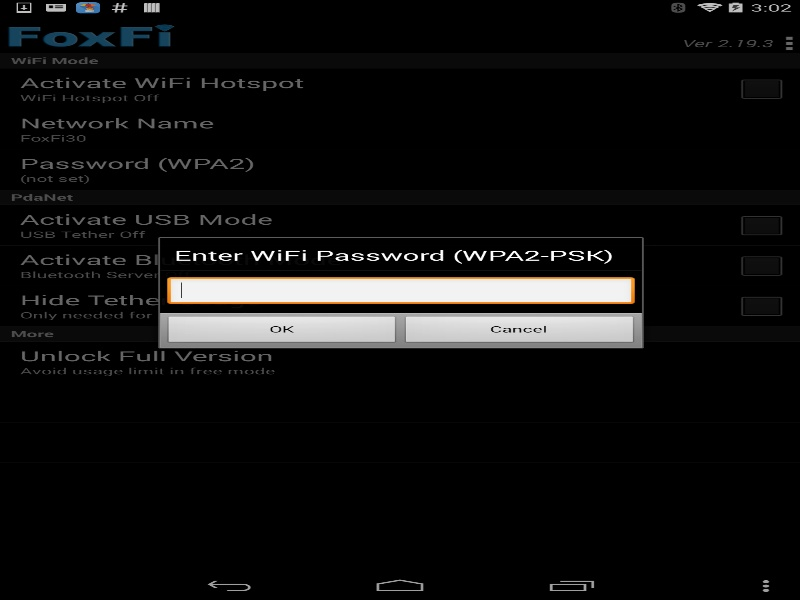Button: (400, 315, 638, 345), (163, 315, 400, 345)
Input: (167, 276, 634, 306)
